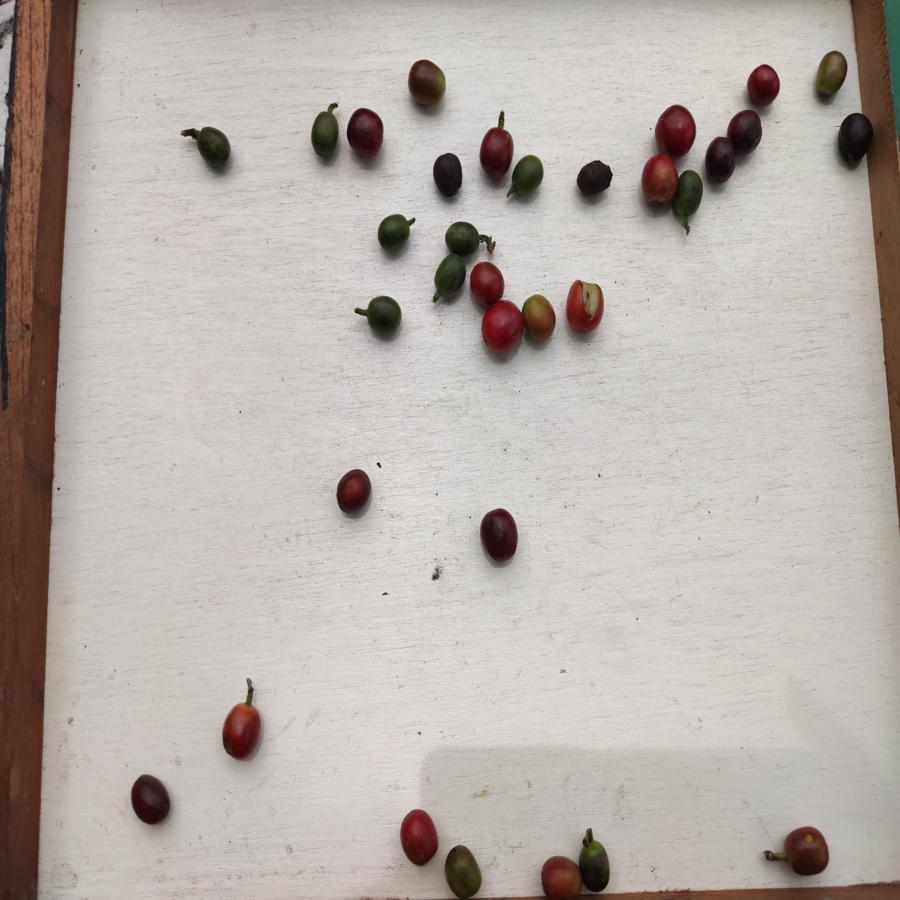Inmaduro: (579, 840, 615, 893), (308, 110, 343, 160), (364, 296, 405, 337), (195, 125, 233, 169), (446, 220, 487, 259), (675, 169, 705, 219), (379, 212, 414, 254), (513, 153, 545, 198), (433, 254, 465, 299)
Maduro: (478, 300, 524, 356), (398, 806, 439, 866), (222, 701, 261, 759), (567, 278, 605, 335), (469, 263, 506, 305)
Pinton: (783, 823, 830, 877), (443, 842, 485, 900), (406, 60, 447, 109), (640, 154, 677, 208), (539, 855, 581, 899), (812, 49, 849, 97), (523, 295, 558, 342)
Sobremaduro: (129, 772, 171, 828), (343, 108, 387, 160), (655, 103, 699, 155), (836, 113, 876, 169), (480, 508, 520, 564), (334, 467, 372, 515), (478, 128, 513, 179), (706, 135, 738, 187), (574, 157, 613, 198), (728, 109, 762, 155), (745, 64, 780, 108)
